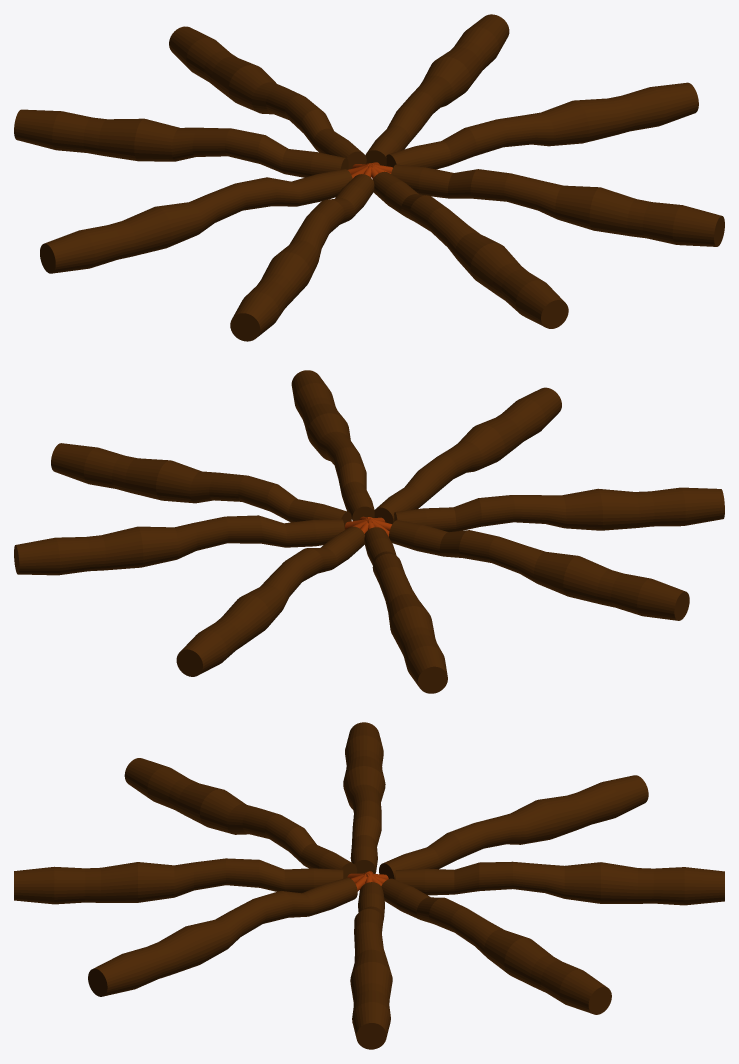
Rendered from Bål.fbx.
3 views of the same model, one above another, from view 1: azimuth 30°, elevation 25°; view 2: azimuth 150°, elevation 25°; view 3: azimuth 270°, elevation 25° (orthographic). The views are drawn at different scales.
Parts seen in each view (by area): view 1: Cylinder.008, Cylinder.005, Cylinder.004, Cylinder.001, Cylinder.002, Cylinder.003, Cylinder.007, Cylinder.006; view 2: Cylinder.006, Cylinder.007, Cylinder.004, Cylinder.001, Cylinder.003, Cylinder.002, Cylinder.005, Cylinder.008; view 3: Cylinder.003, Cylinder.002, Cylinder.008, Cylinder.005, Cylinder.006, Cylinder.007, Cylinder.001, Cylinder.004.
Boxes of the visible parts, box(x1,y1,x2,y2) form: Cylinder.008: box(391, 164, 724, 246); Cylinder.005: box(14, 109, 348, 177); Cylinder.004: box(40, 169, 352, 273); Cylinder.001: box(386, 82, 698, 169); Cylinder.002: box(373, 171, 568, 328); Cylinder.003: box(169, 26, 366, 169); Cylinder.007: box(230, 174, 374, 341); Cylinder.006: box(365, 14, 509, 166); Cylinder.006: box(14, 515, 344, 575); Cylinder.007: box(394, 487, 724, 532); Cylinder.004: box(389, 520, 689, 620); Cylinder.001: box(51, 443, 351, 529); Cylinder.003: box(176, 526, 364, 676); Cylinder.002: box(374, 387, 561, 523); Cylinder.005: box(364, 527, 447, 693); Cylinder.008: box(291, 370, 374, 520); Cylinder.003: box(395, 861, 724, 905); Cylinder.002: box(14, 858, 343, 904); Cylinder.008: box(88, 877, 357, 996); Cylinder.005: box(379, 775, 648, 879); Cylinder.006: box(381, 878, 611, 1014); Cylinder.007: box(124, 758, 357, 878); Cylinder.001: box(350, 882, 392, 1049); Cylinder.004: box(343, 722, 385, 873).
Size of the model in its own units: 291 by 18.81 by 291.
